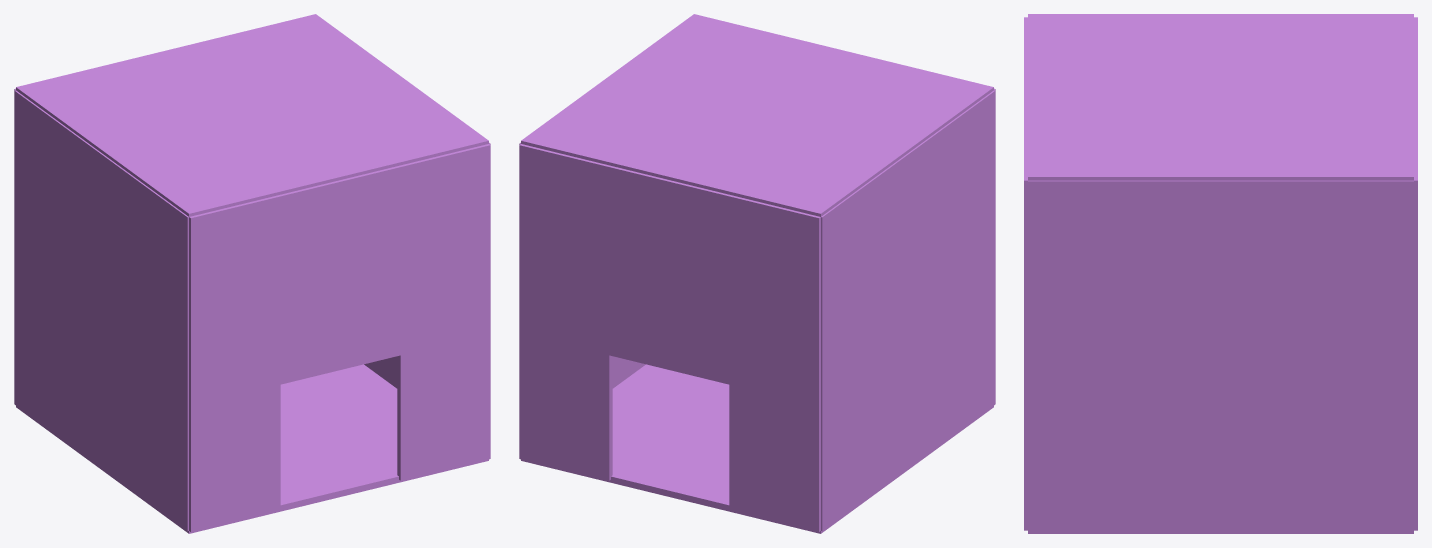
Rendered from kobeya.fbx.
3 renders of one model, left to right at view 1: azimuth 30°, elevation 25°; view 2: azimuth 150°, elevation 25°; view 3: azimuth 270°, elevation 25°, orthographic. The views are drawn at different scales.
Visible parts, largest first — view 1: 立方体.004; view 2: 立方体.004; view 3: 立方体.004.
Part boxes in pixels (bbox=[...]): 立方体.004: bbox=[14, 14, 490, 533]; 立方体.004: bbox=[519, 14, 995, 533]; 立方体.004: bbox=[1024, 14, 1417, 533].
Size of the model in its own units: 5.05 by 5.1 by 5.1.
